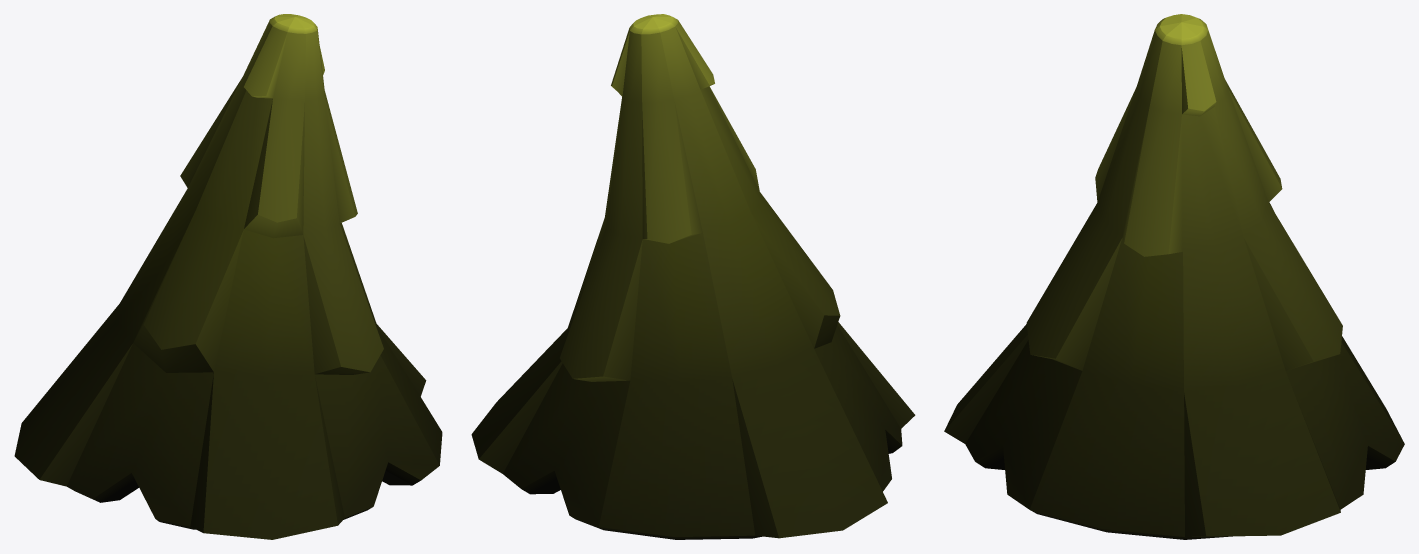
Rendered from Leaves_02B.fbx.
3 views of the same model, side by side, from view 1: azimuth 30°, elevation 25°; view 2: azimuth 150°, elevation 25°; view 3: azimuth 270°, elevation 25° (orthographic). The views are drawn at different scales.
Visible parts, largest first — view 1: Leaves_02B; view 2: Leaves_02B; view 3: Leaves_02B.
Part boxes in pixels (x1,y1,x2,y2): Leaves_02B: (14,14,442,539); Leaves_02B: (471,14,915,539); Leaves_02B: (944,14,1404,539).
Bounding box in the file's own units: 671 × 708 × 642.
